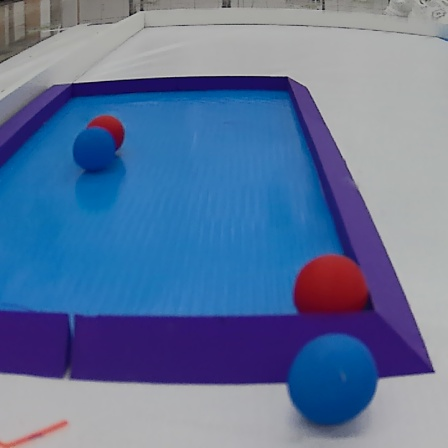blue: (281, 332, 383, 427), (74, 128, 118, 179)
blue_aim: (1, 72, 440, 387)
red: (288, 254, 373, 325), (88, 113, 127, 158)
